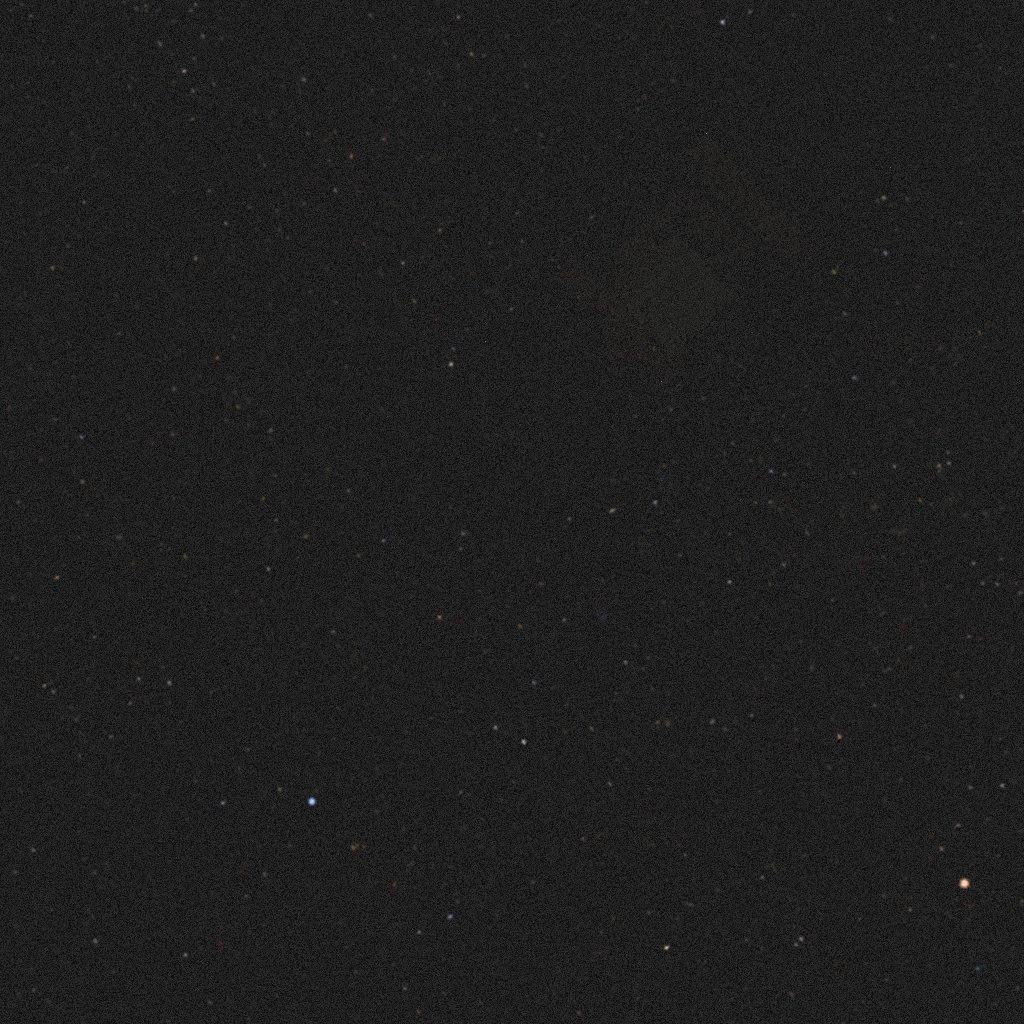soho: (412, 0, 964, 517)
